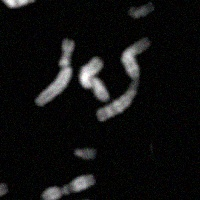chromosome: (96, 37, 153, 122), (33, 38, 72, 107), (43, 174, 95, 200), (80, 58, 108, 101), (73, 141, 96, 162), (0, 0, 43, 8), (0, 182, 7, 200)
